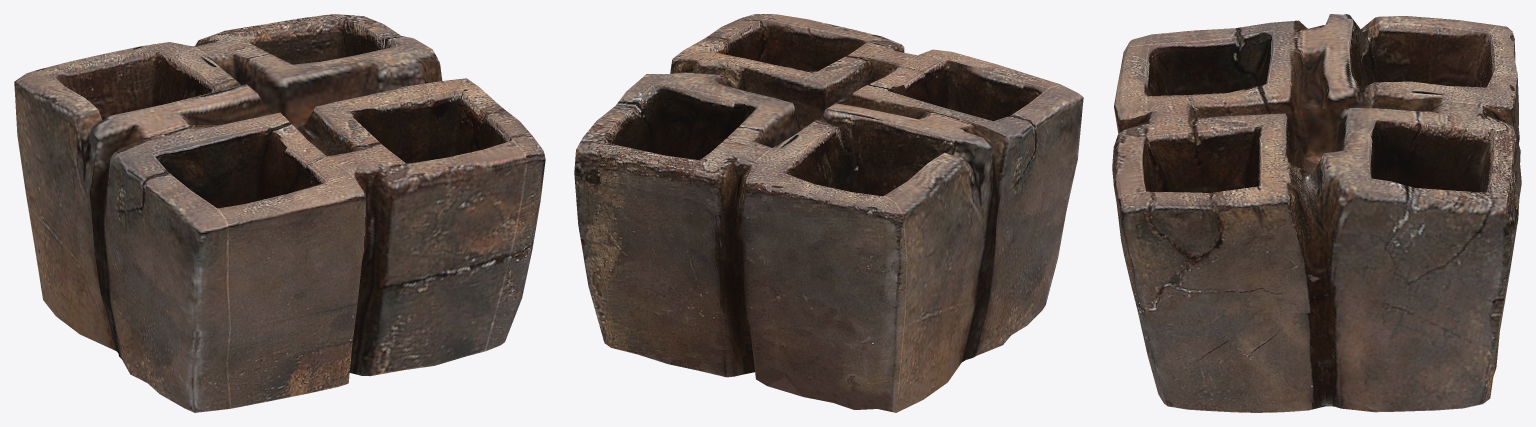
Rendered from recipiente_chavin_ar.glb.
The picture shows the model from 3 angles, left to right: view 1: azimuth 30°, elevation 25°; view 2: azimuth 150°, elevation 25°; view 3: azimuth 270°, elevation 25°; orthographic projection. The views are drawn at different scales.
Visible parts, largest first — view 1: Box001; view 2: Box001; view 3: Box001.
Part boxes in pixels (x1=…): Box001: x1=14, y1=14, x2=545, y2=412; Box001: x1=574, y1=14, x2=1083, y2=412; Box001: x1=1112, y1=14, x2=1521, y2=412.
Bounding box in the file's own units: 4.09 × 2.54 × 3.98.
Materials: 1 (1 with a texture image).
